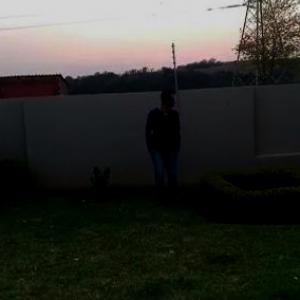follow: (142, 84, 182, 216)
